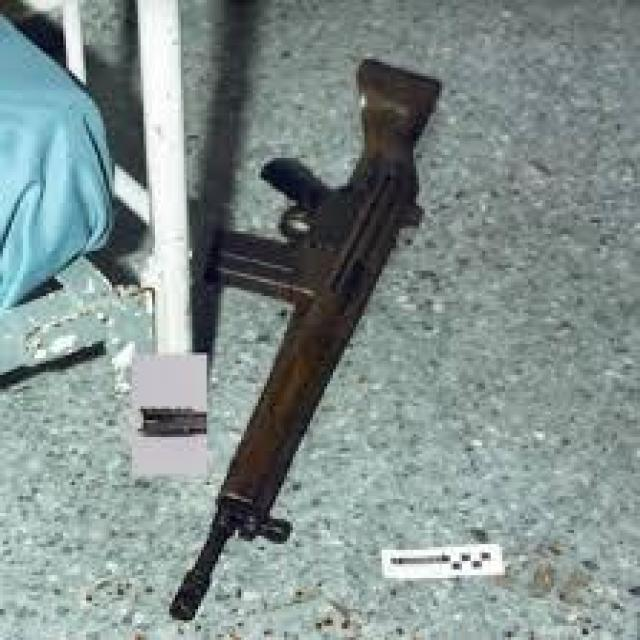Rifle: (166, 55, 444, 625)
